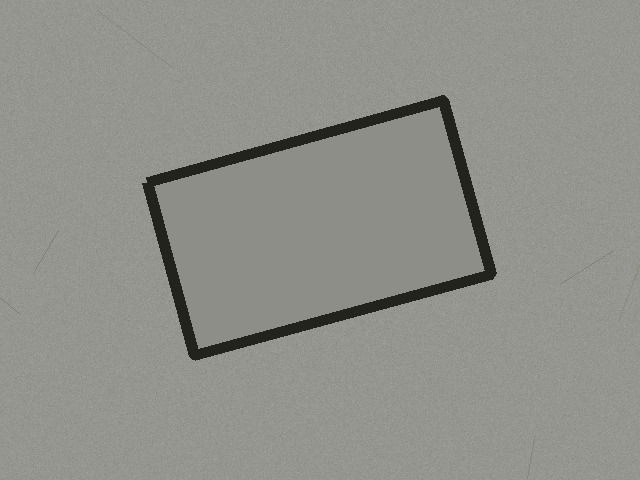parking_area: (147, 100, 491, 355)
